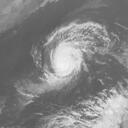cyclone: (26, 21, 111, 88)
